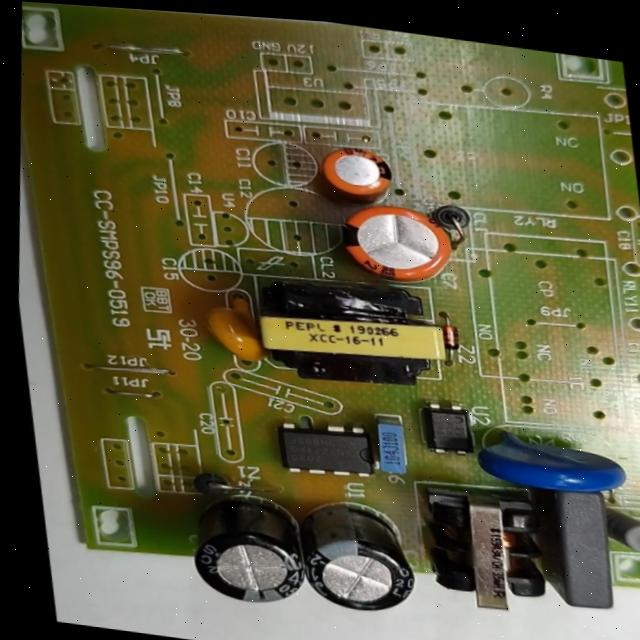Cap1: (316, 187, 478, 298)
Cap2: (302, 130, 411, 217)
Cap3: (275, 491, 431, 626)
Cap4: (177, 476, 322, 627)
MOSFET: (257, 406, 389, 490)
Mov: (467, 413, 637, 511)
Resistor: (597, 502, 640, 565)
Transformer: (230, 254, 465, 408), (408, 476, 565, 627)
